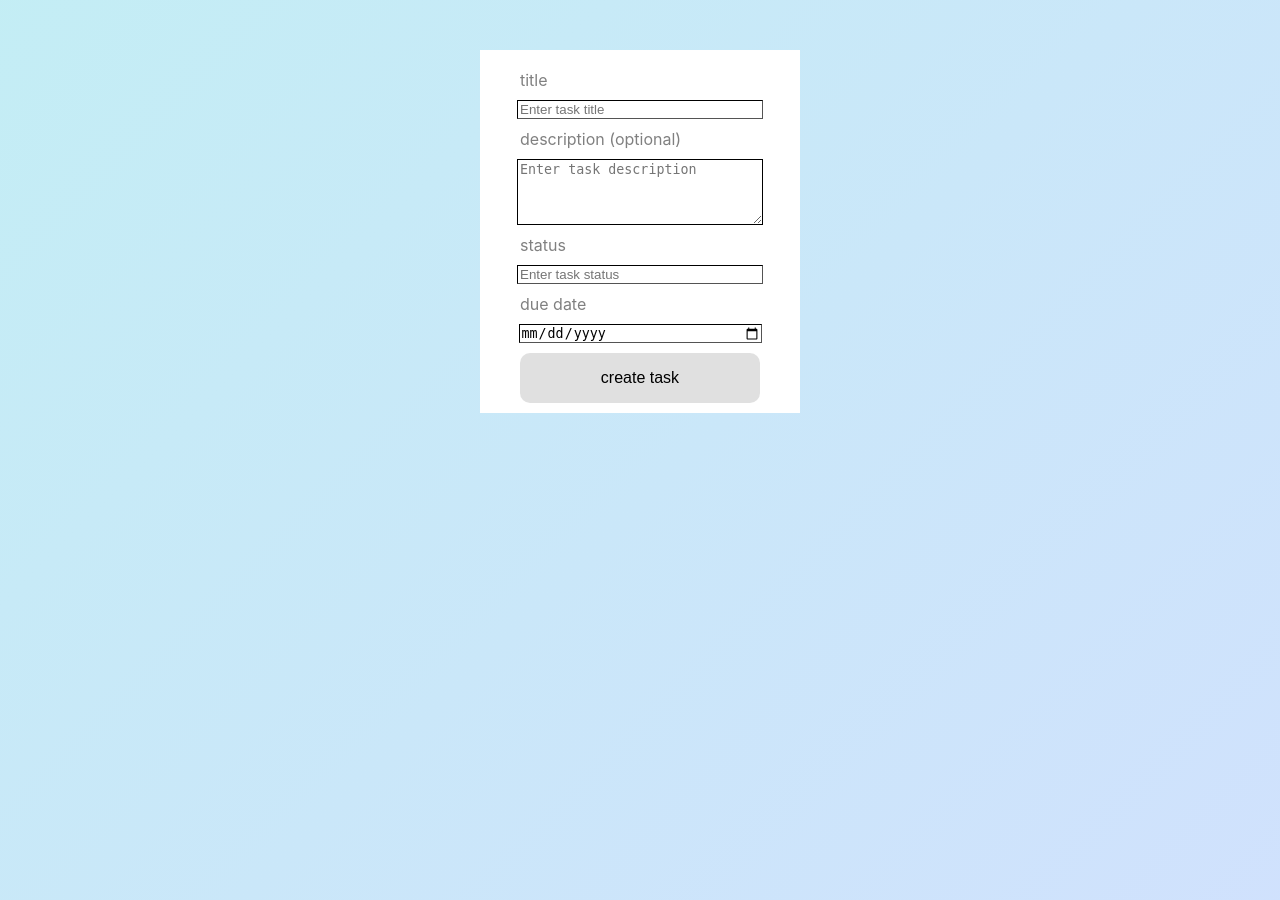
Scenario: Home Component › shows error modal when API request fails
The image size is (1280, 900).
Type "Test Task" into the field with placeholder "Enter task title".
click(640, 110); type("Test Task")  # box [517,100,763,119]
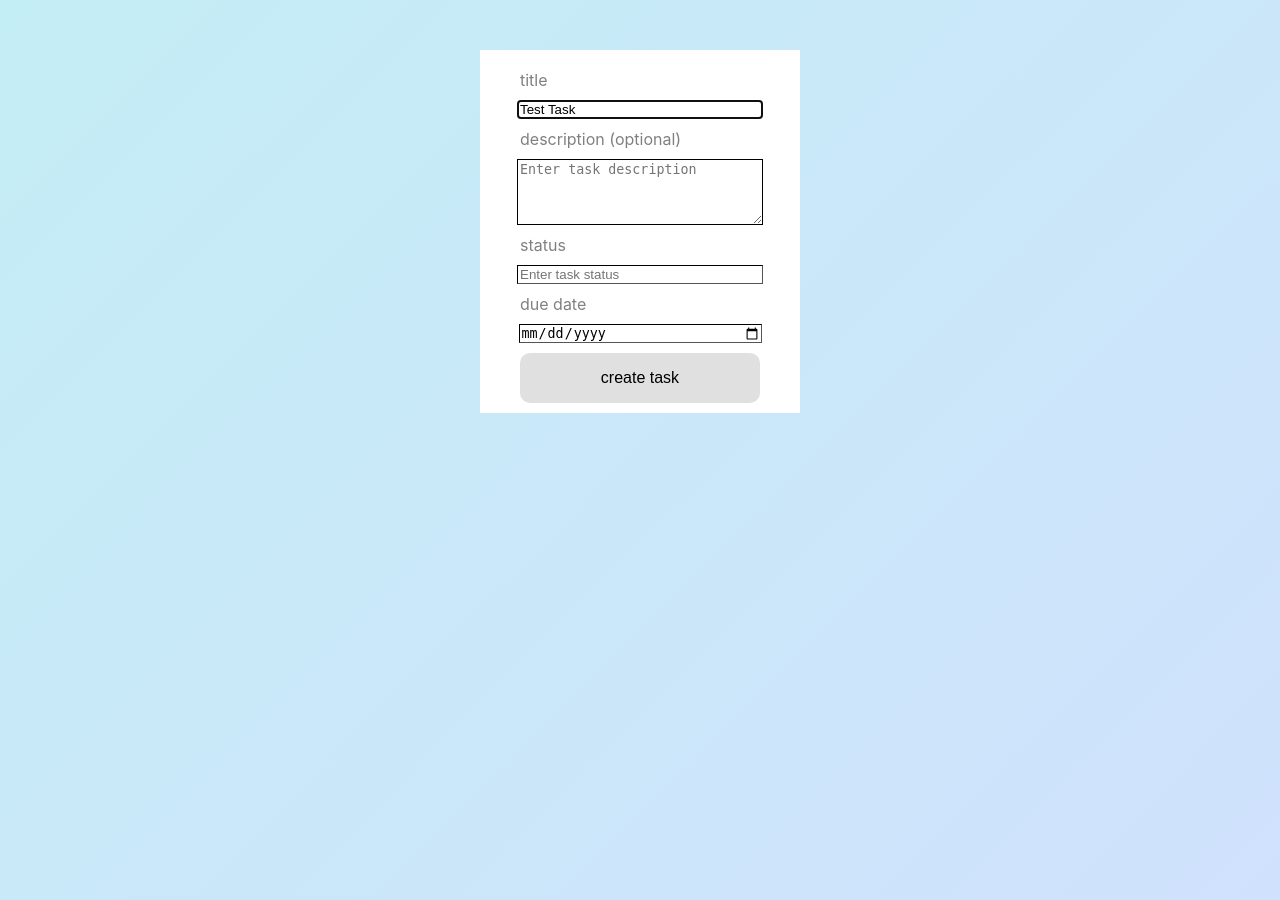
Type "pending" into the field with placeholder "Enter task status".
click(640, 274); type("pending")  # box [517,265,763,284]
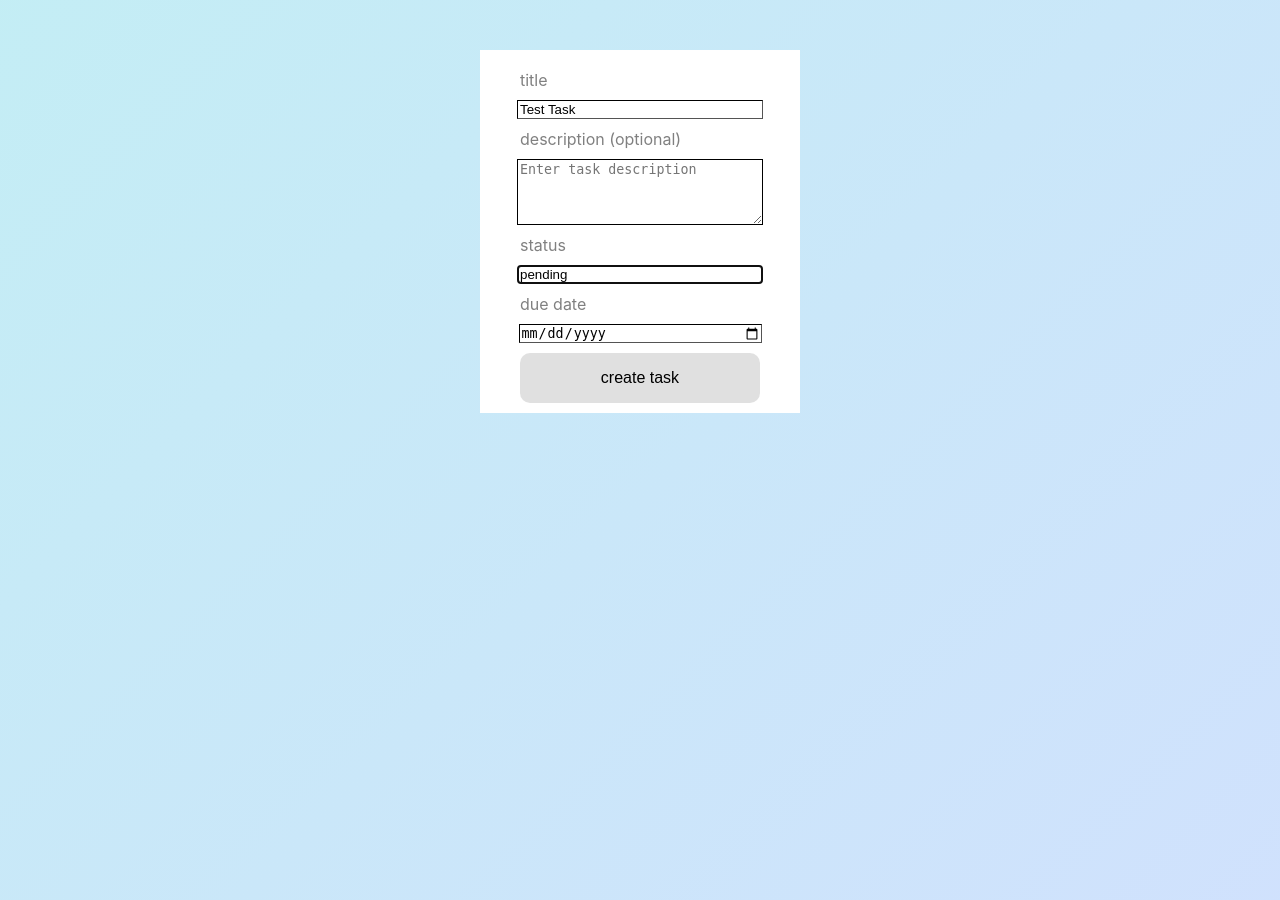
Type "2024-12-31" into the date field labelled "due date".
click(640, 334); type("2024-12-31")  # box [518,324,762,343]
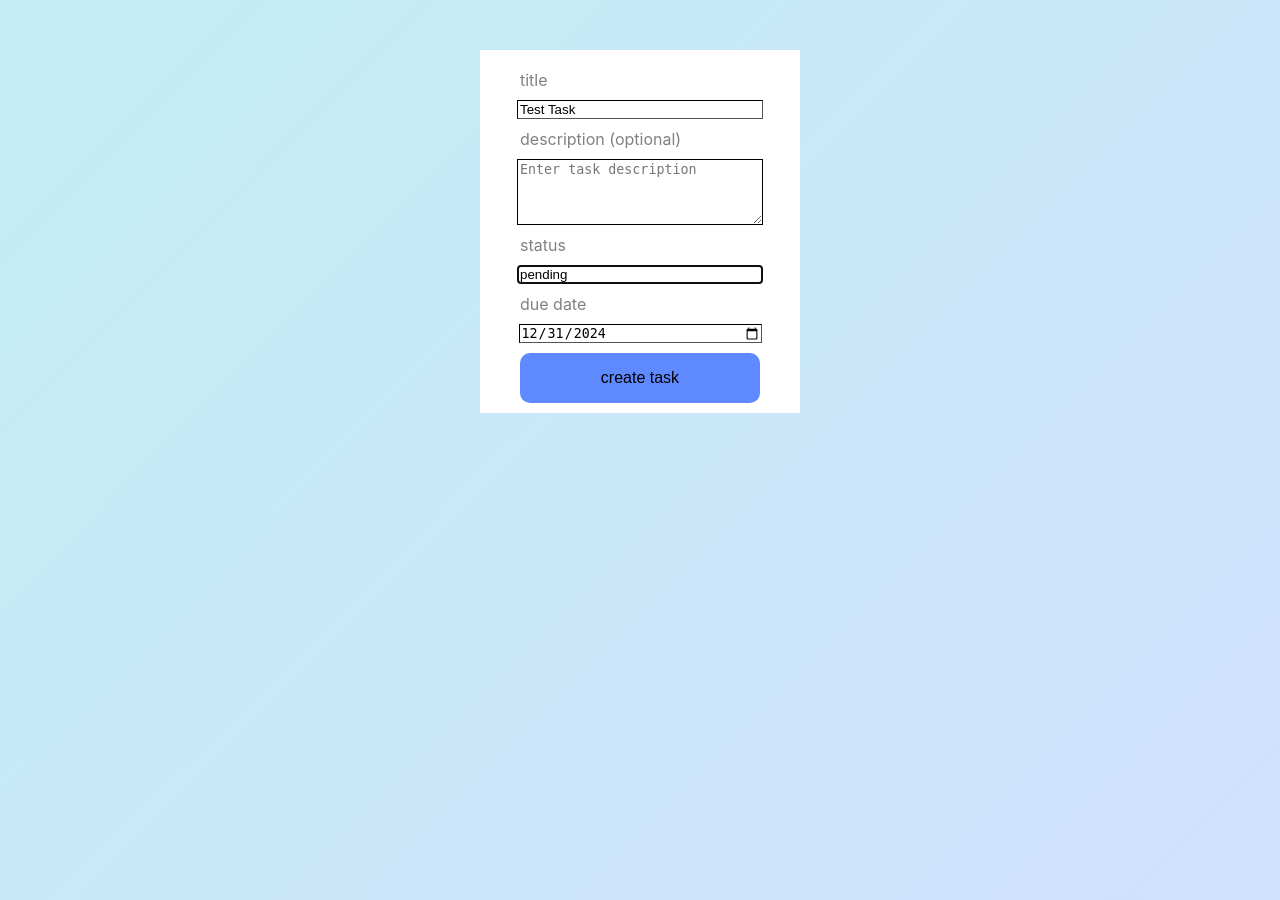
Click the button "create task".
click(640, 378)  # box [520,353,760,403]
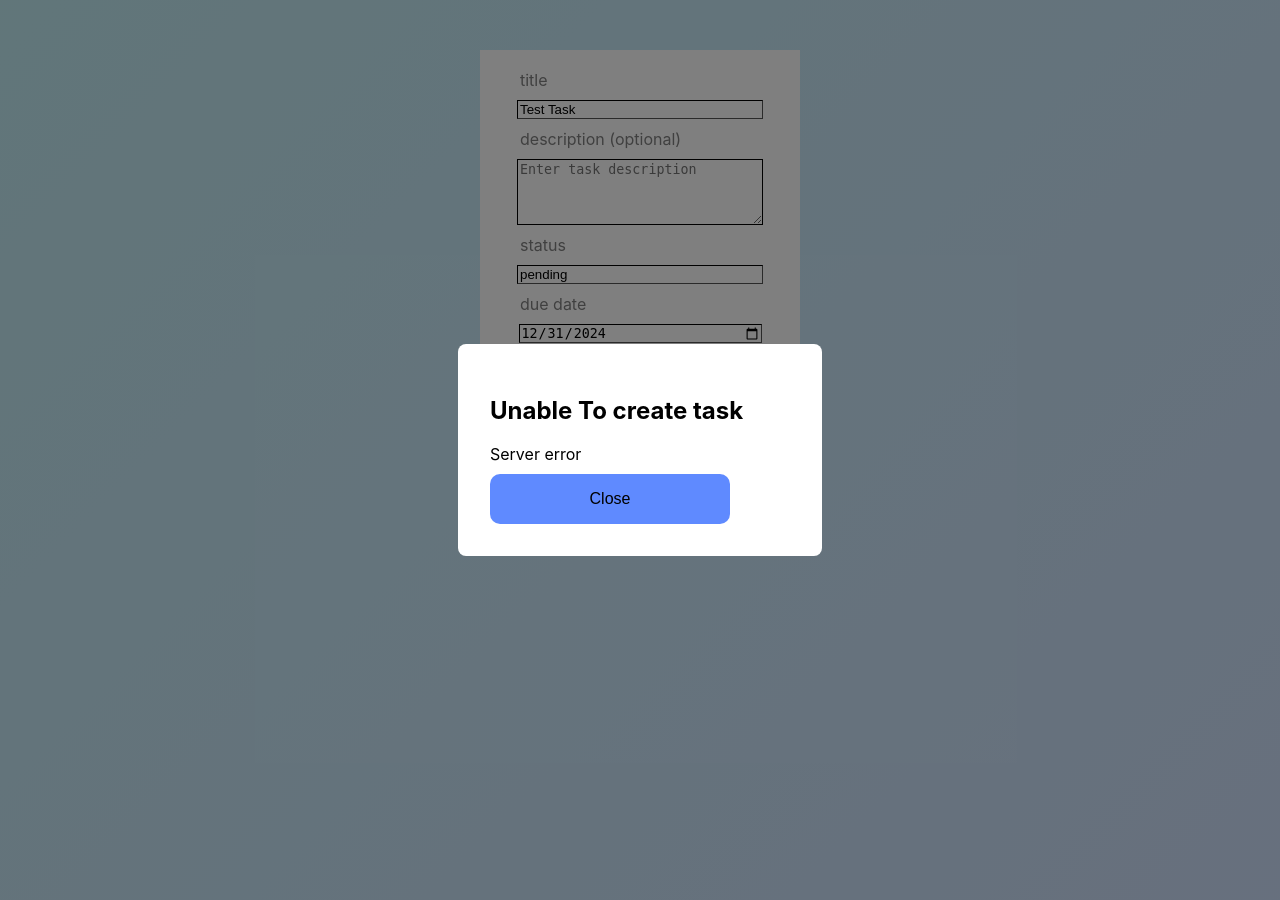
Now the heading "Unable To create task" is shown, box [490,396,743,424]
Now the text "Server error" is shown, box [490,444,581,464]
